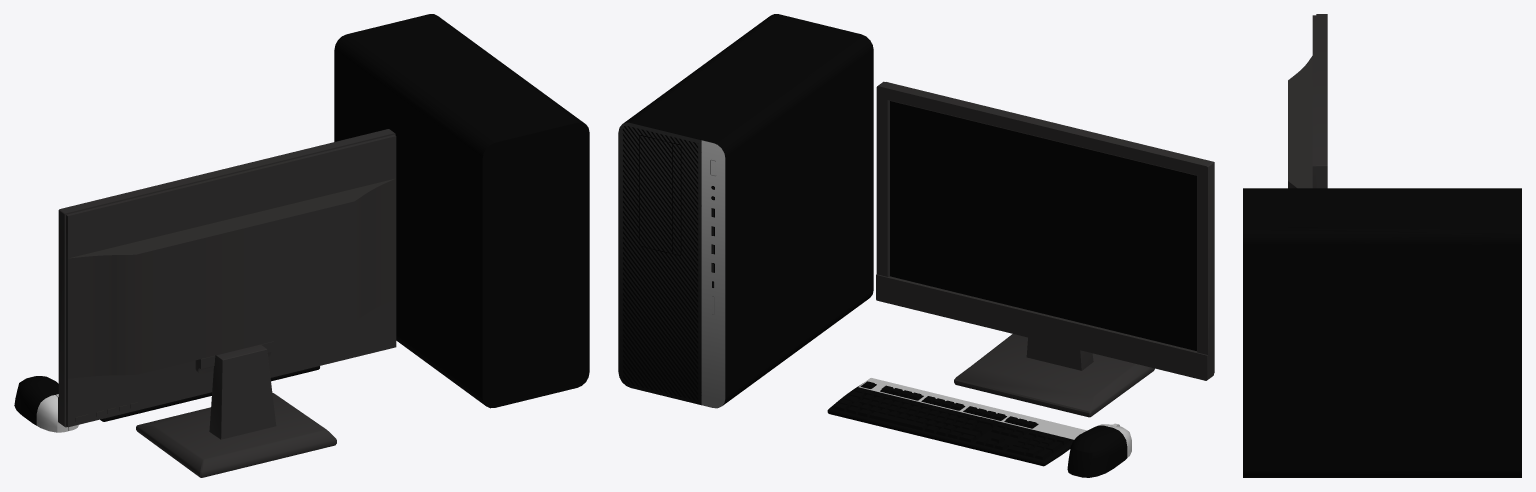
Rendered from desktop_computer.glb.
3 renders of one model, left to right at view 1: azimuth 30°, elevation 25°; view 2: azimuth 150°, elevation 25°; view 3: azimuth 270°, elevation 25°, orthographic. The views are drawn at different scales.
Visible parts, largest first — view 1: Cube_0, Cube.003_5, Cube.001_3; view 2: Cube_0, Cube.003_5, Cube.002_4, Cube.001_3; view 3: Cube.003_5, Cube_0.
Part boxes in pixels (left/top/right/bottom): Cube_0: left=58, top=129, right=396, bottom=477; Cube.003_5: left=334, top=14, right=589, bottom=408; Cube.001_3: left=14, top=366, right=319, bottom=432; Cube_0: left=876, top=81, right=1214, bottom=417; Cube.003_5: left=618, top=14, right=873, bottom=408; Cube.002_4: left=832, top=381, right=1068, bottom=459; Cube.001_3: left=827, top=378, right=1131, bottom=477; Cube.003_5: left=1243, top=188, right=1521, bottom=477; Cube_0: left=1288, top=14, right=1327, bottom=188.
Size of the model in its own units: 1.82 by 0.949 by 0.962.
6 materials, 1 textured.
